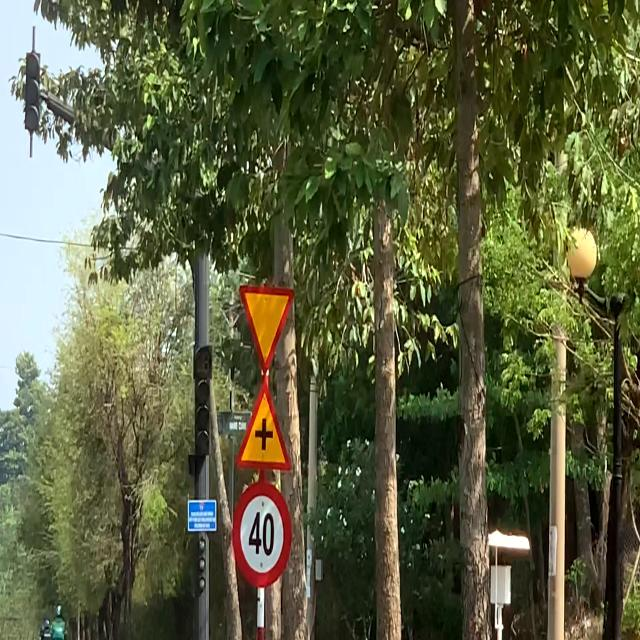Giao nhau voi duong uu tien: (237, 284, 295, 376)
Toc do toi da cho phep: (232, 481, 292, 588)
